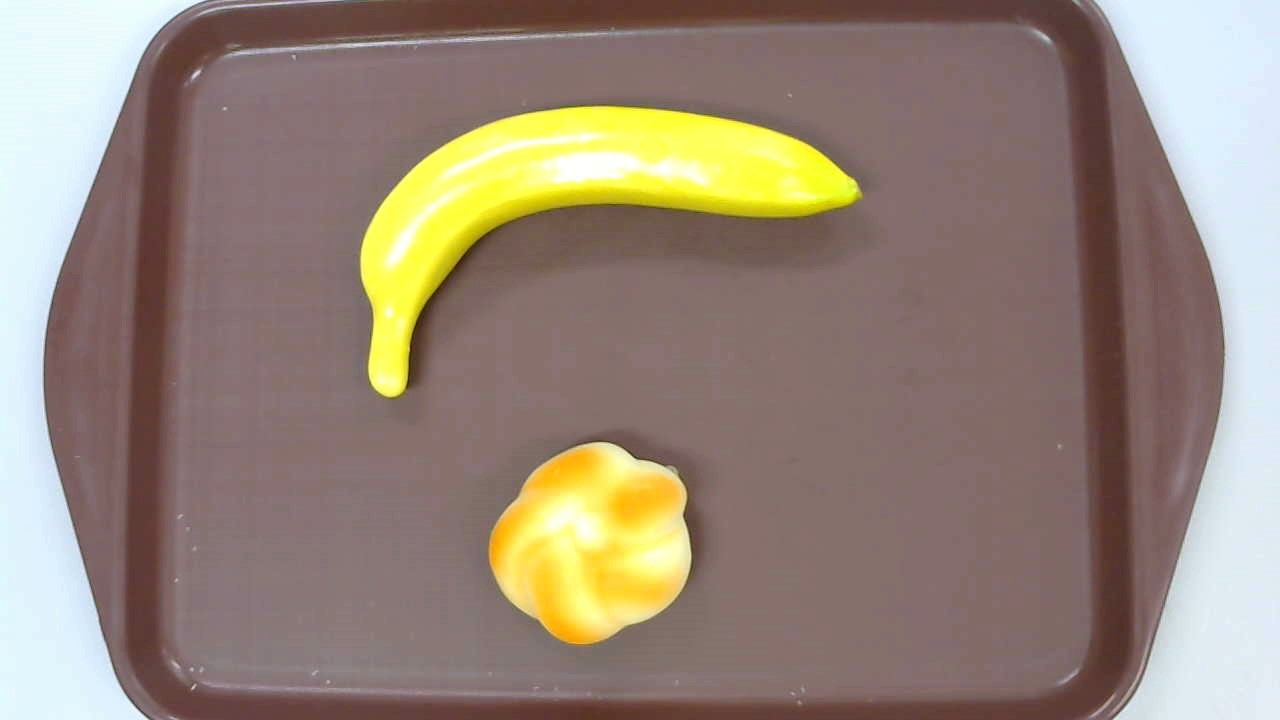banana: (360, 105, 865, 399)
twist bread: (488, 441, 693, 645)
